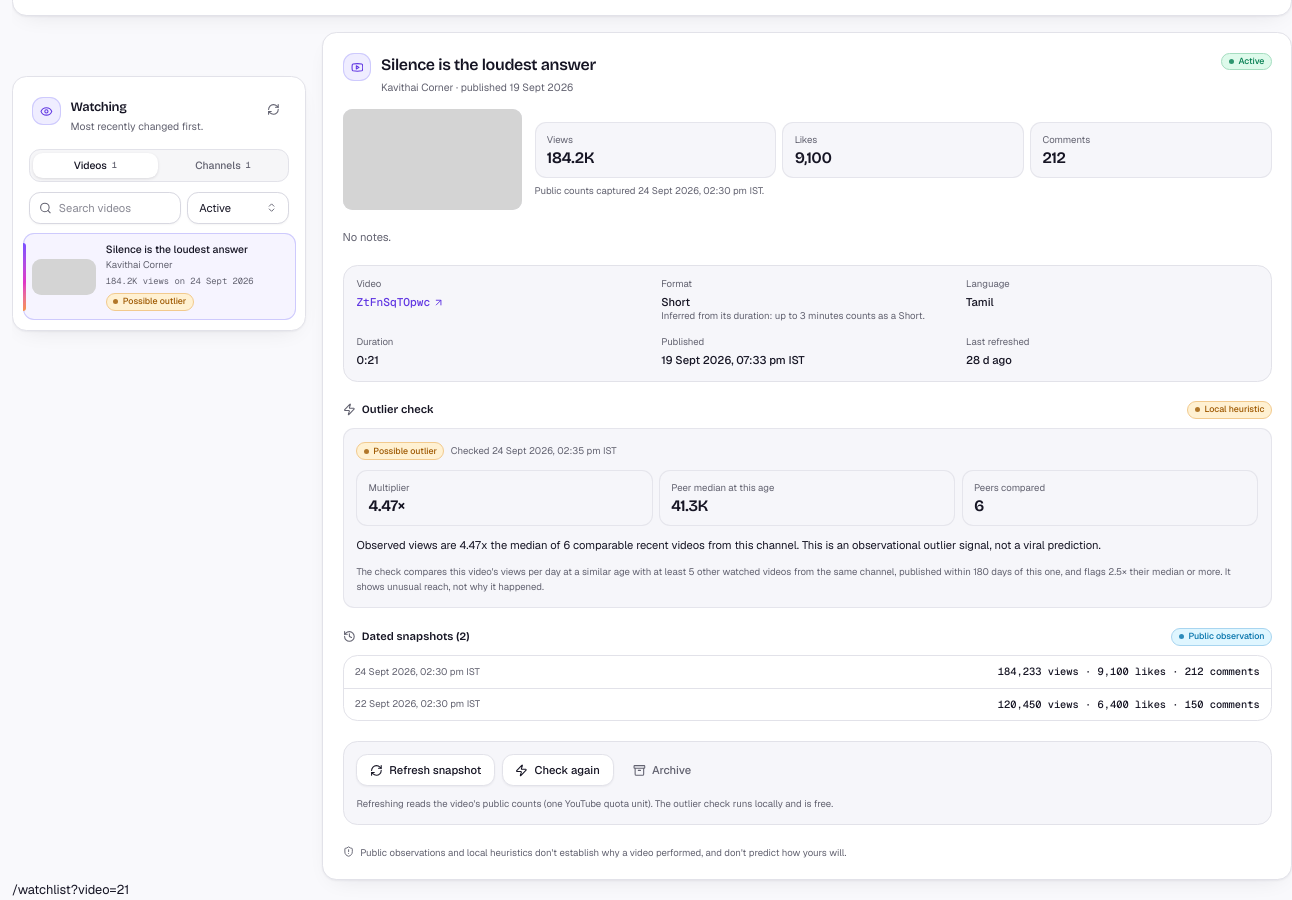
Scenario: WatchlistPage › archives a video
(page scrolled)
Click the button "Archive".
click(662, 770)  # box [620,754,704,786]
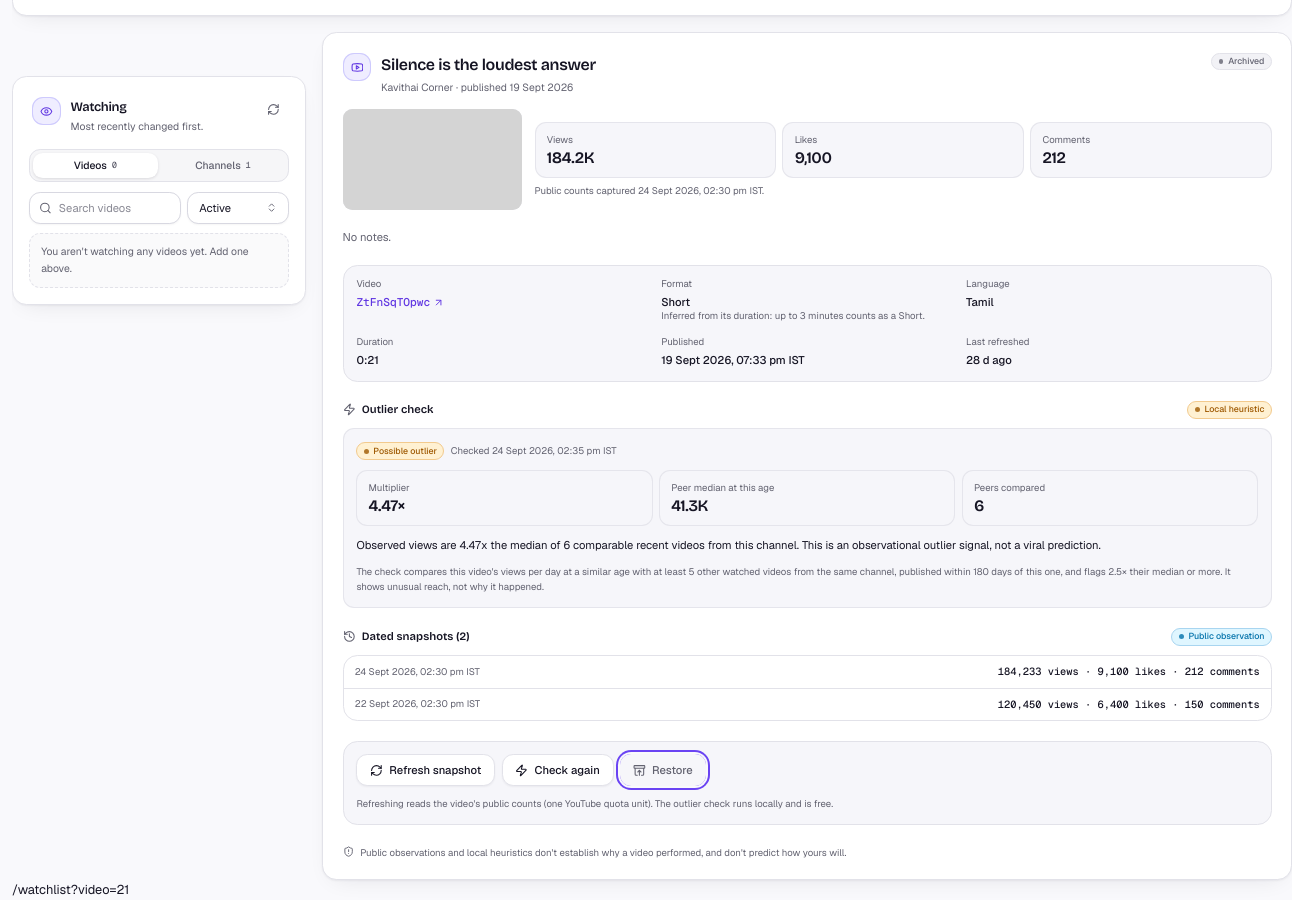
Expected: the button "Restore" is shown, [620,754,706,786]
